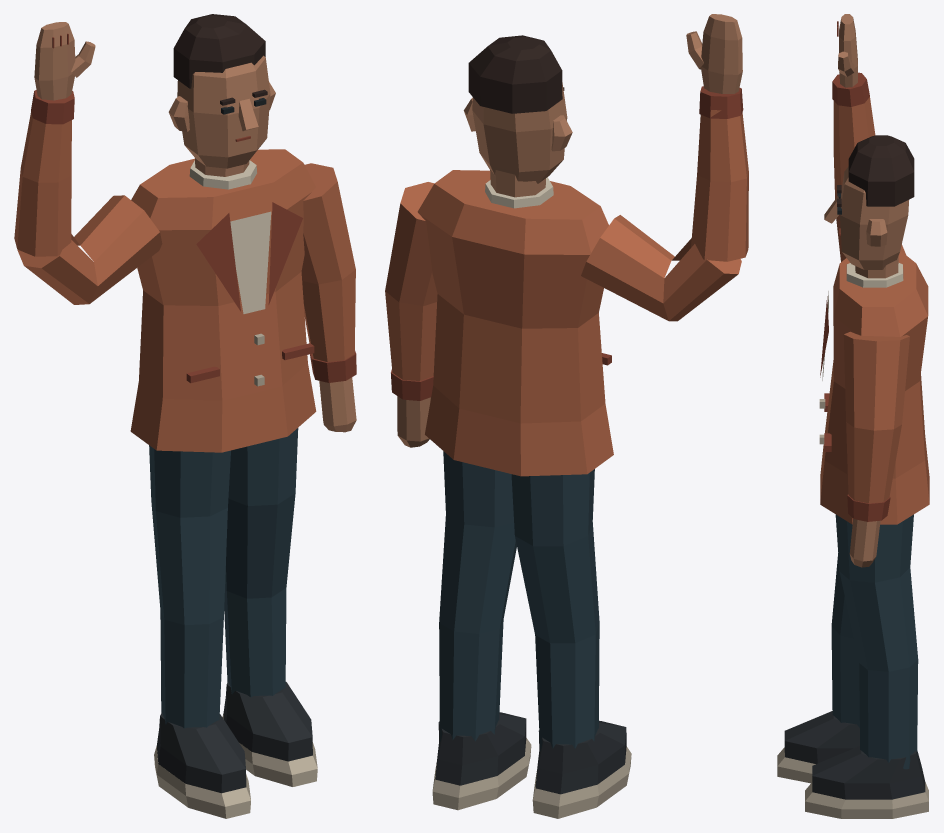
The model's file is passenger.glb.
3 renders of one model, left to right at view 1: azimuth 30°, elevation 25°; view 2: azimuth 150°, elevation 25°; view 3: azimuth 270°, elevation 25°, orthographic. The views are drawn at different scales.
Parts seen in each view (by area): view 1: HailingPassenger; view 2: HailingPassenger; view 3: HailingPassenger.
Part boxes in pixels (x1,y1,x2,y2): HailingPassenger: (14,14,356,818); HailingPassenger: (385,14,748,818); HailingPassenger: (777,14,929,818).
Bounding box in the file's own units: 0.8722 × 1.94 × 0.3856.
